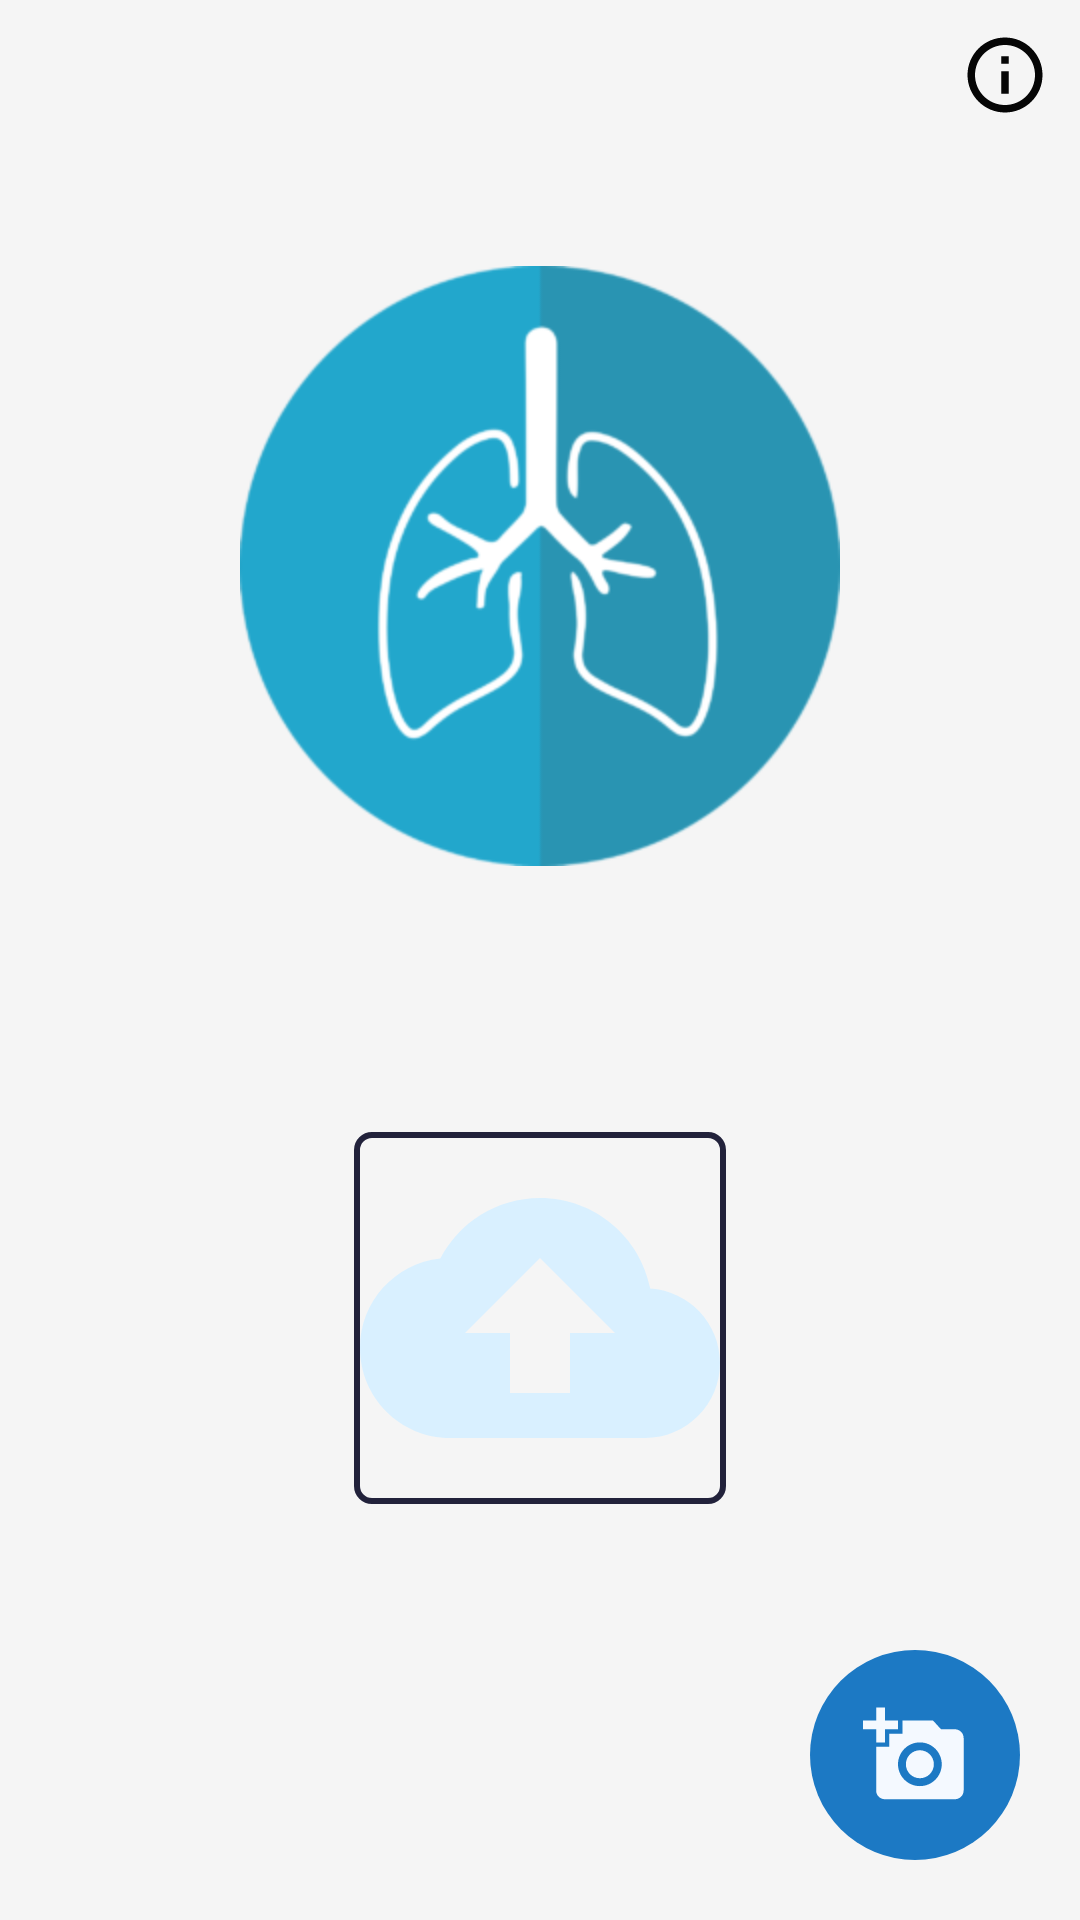

Named icons in this screenshot (1080 × 1920) and their centers, (x,y):
info: (1005,75)
